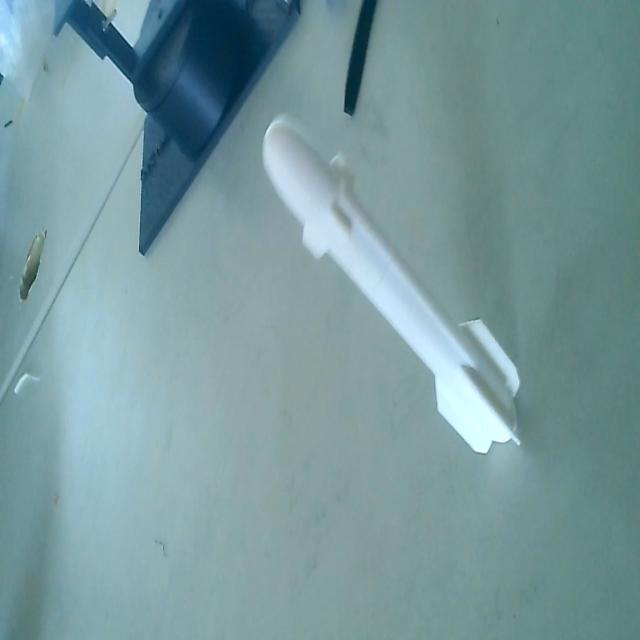Rocket: (260, 113, 524, 454)
